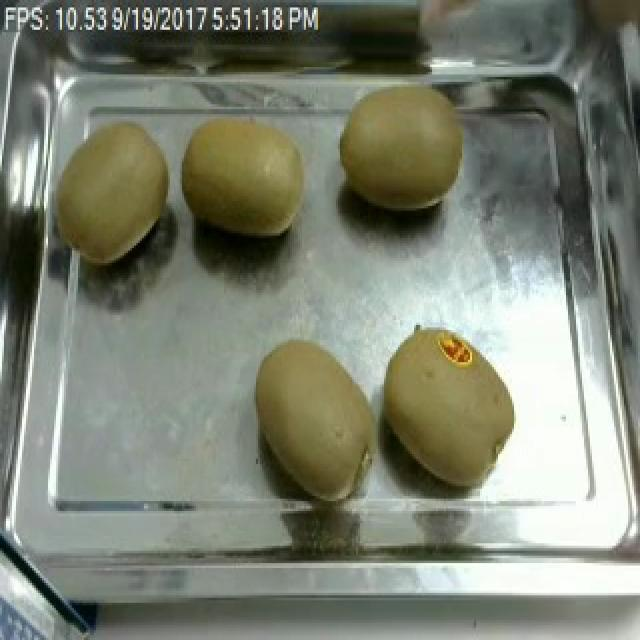Fruit: (374, 318, 526, 496), (246, 332, 388, 506), (46, 112, 180, 275), (332, 74, 476, 224), (172, 112, 320, 248)
